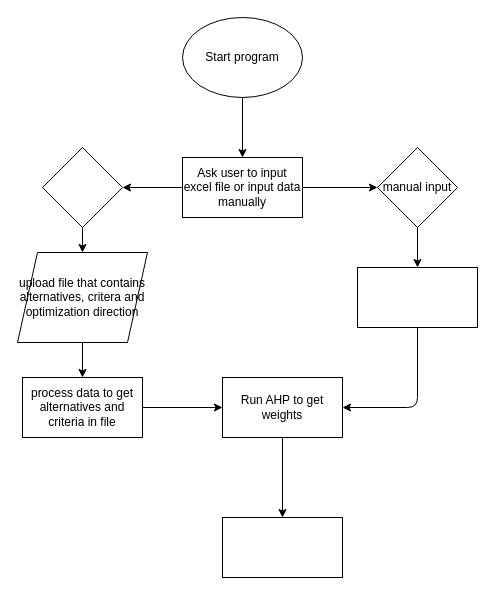
Some shapes in this 495 by 595 pixel diagram are drawn without their labels. The box of each missing label's shape, as (x1, y1, x2, y2) in pixels:
Ask questions to alternatives and criteria: (356, 266, 478, 328)
Excel input: (42, 146, 122, 228)
run TOPSIS: (222, 516, 342, 578)
